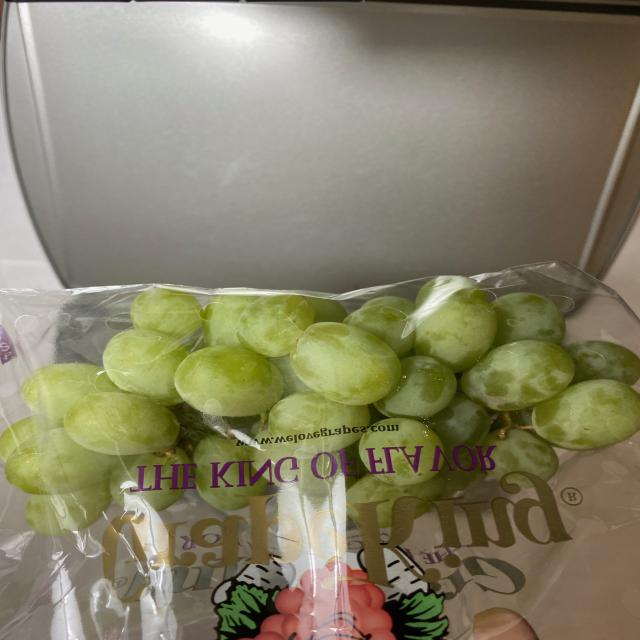grapes: (0, 266, 634, 528)
